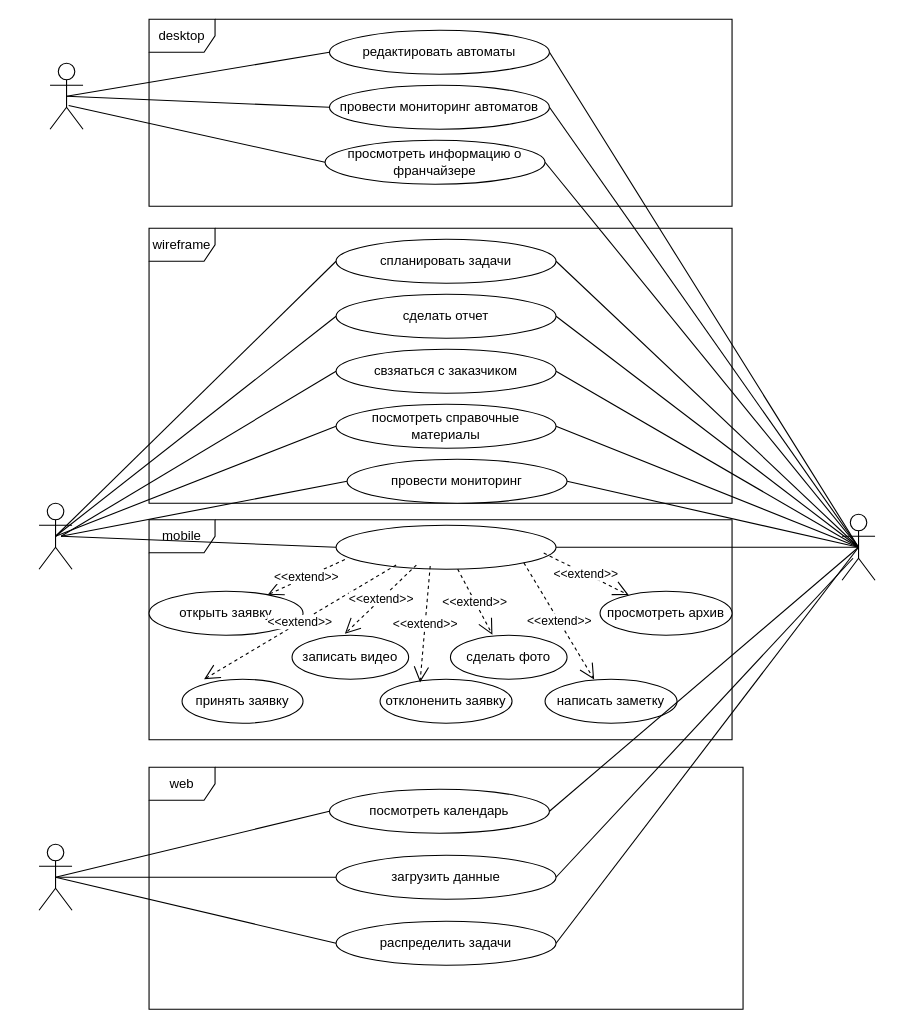
Image size: 904x1029. Some labels were removed from this diagram. The centre of each missing label's shape, as x and y in pixels:
"Администратор" goes at [66,95].
"Инженер" goes at [55,535].
"Менеджер" goes at [55,876].
"посмотреть заявки" goes at [445,546].
"Система" goes at [858,546].
